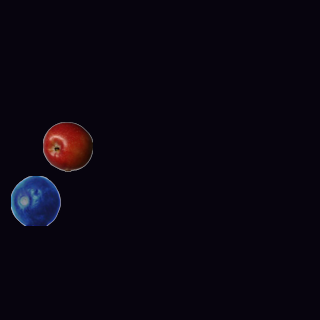Apple Braeburn: (42, 121, 92, 171)
Huckleberry: (10, 175, 60, 225)
